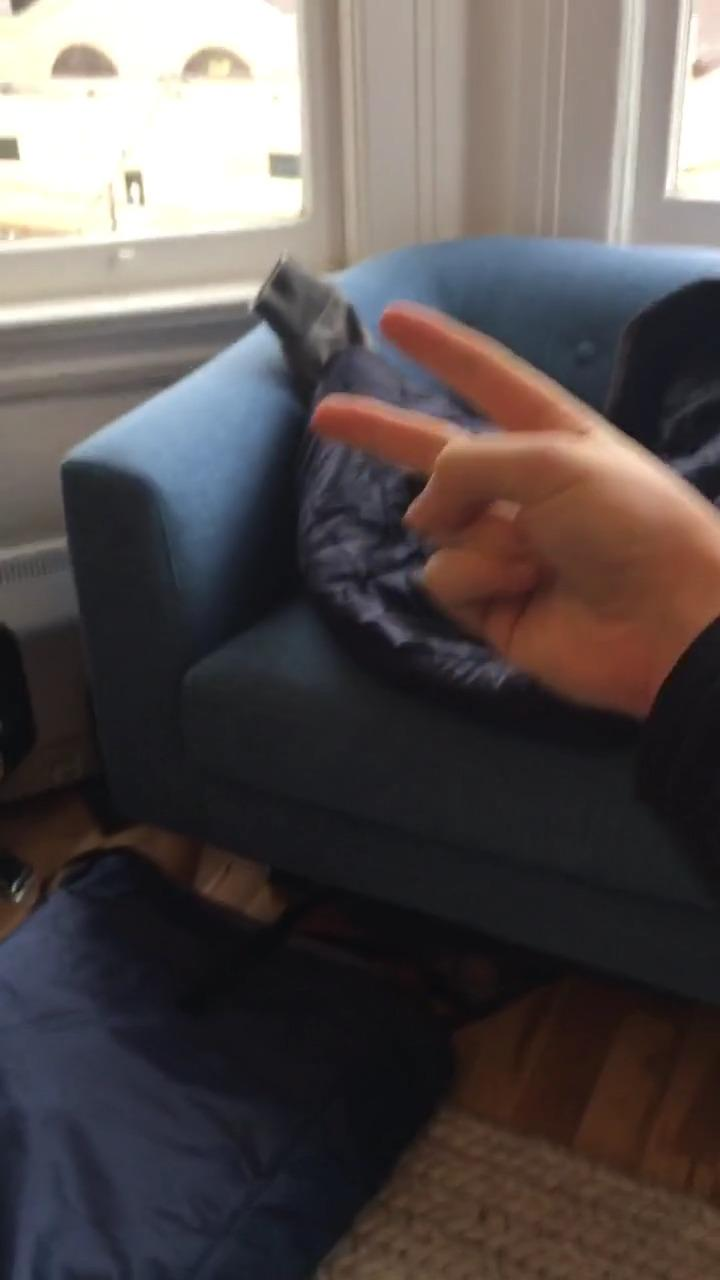Scissors: (312, 300, 720, 717)
